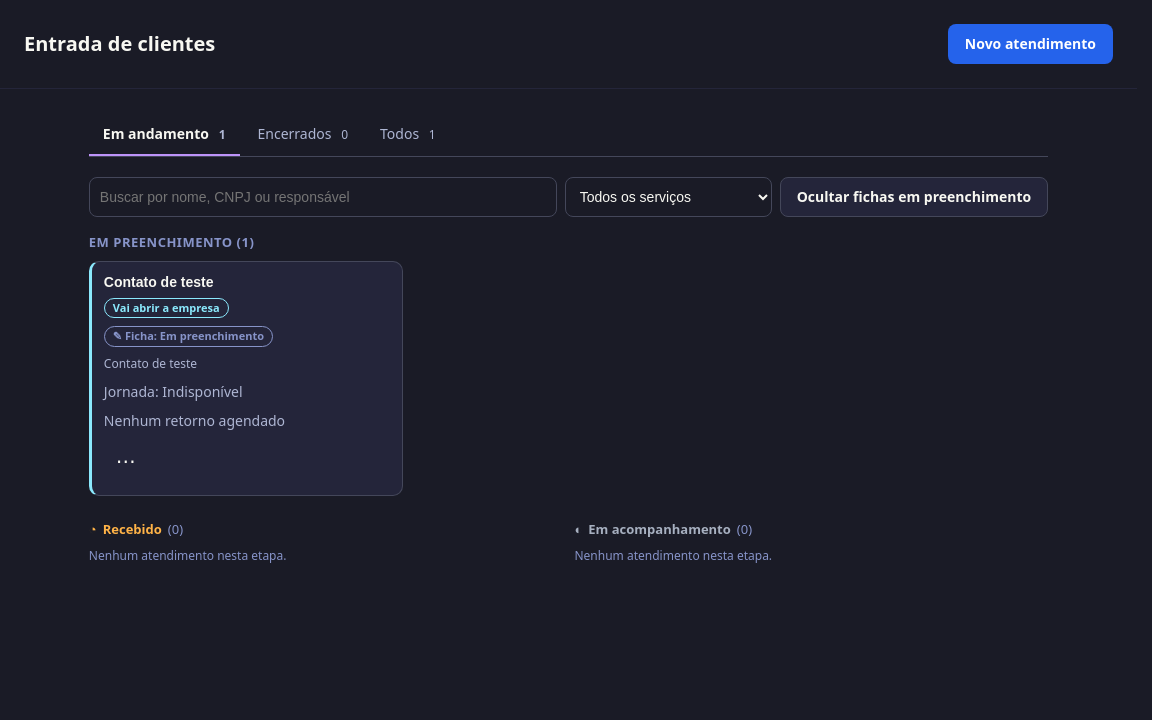
Test: vínculo criado depois da prévia mantém a ficha e erro recuperável
Click the button named "Ações de Contato de teste" at (126, 460), box [104,438,148,482]
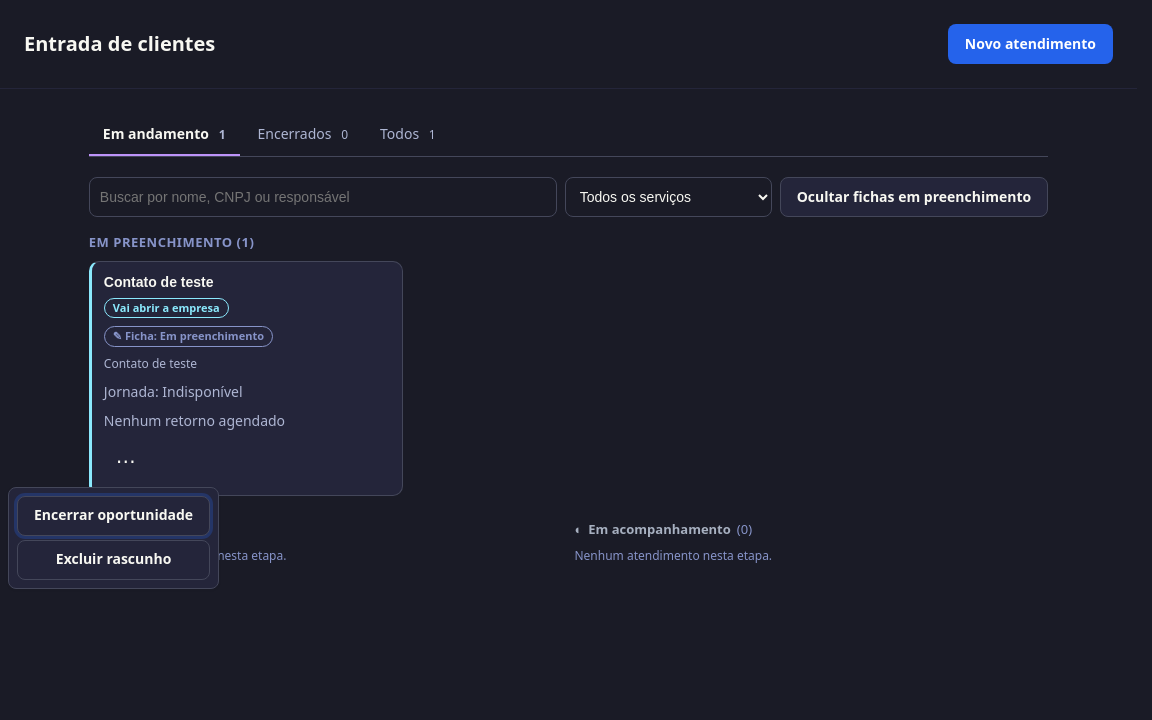
Click the menu item "Excluir rascunho" at (114, 560), box [17,540,210,580]
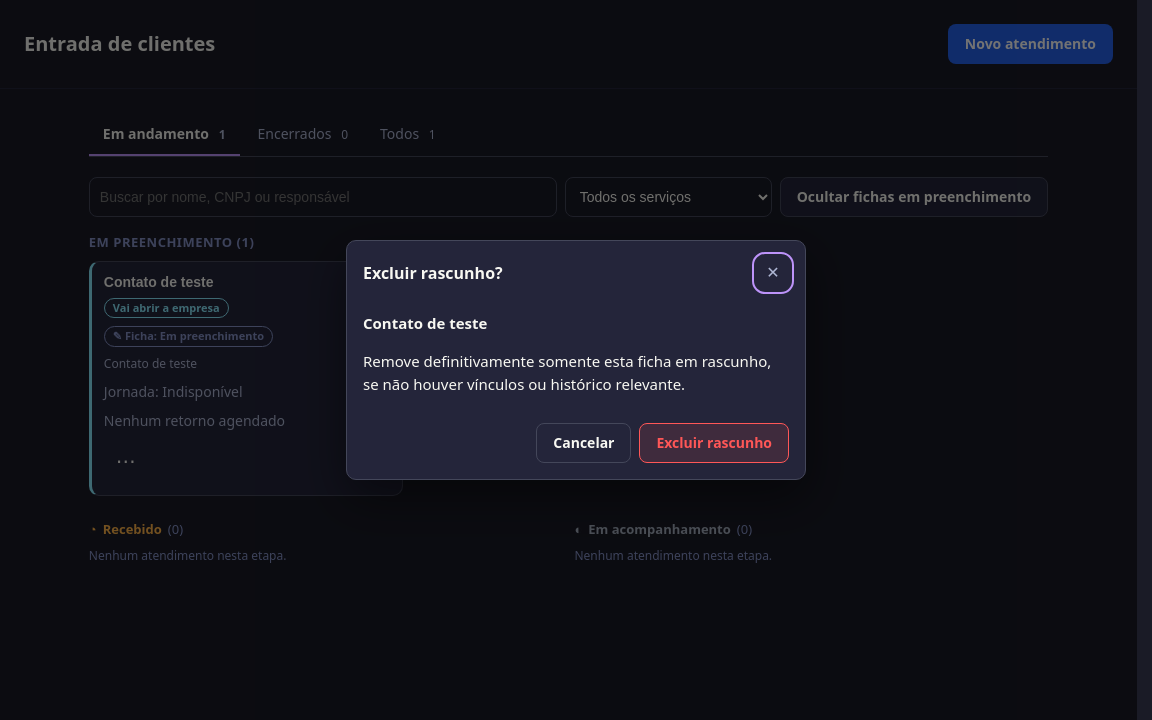
Expected: the button "Excluir rascunho" is enabled
Click the button "Excluir rascunho" at (714, 443), box [640,423,789,463]
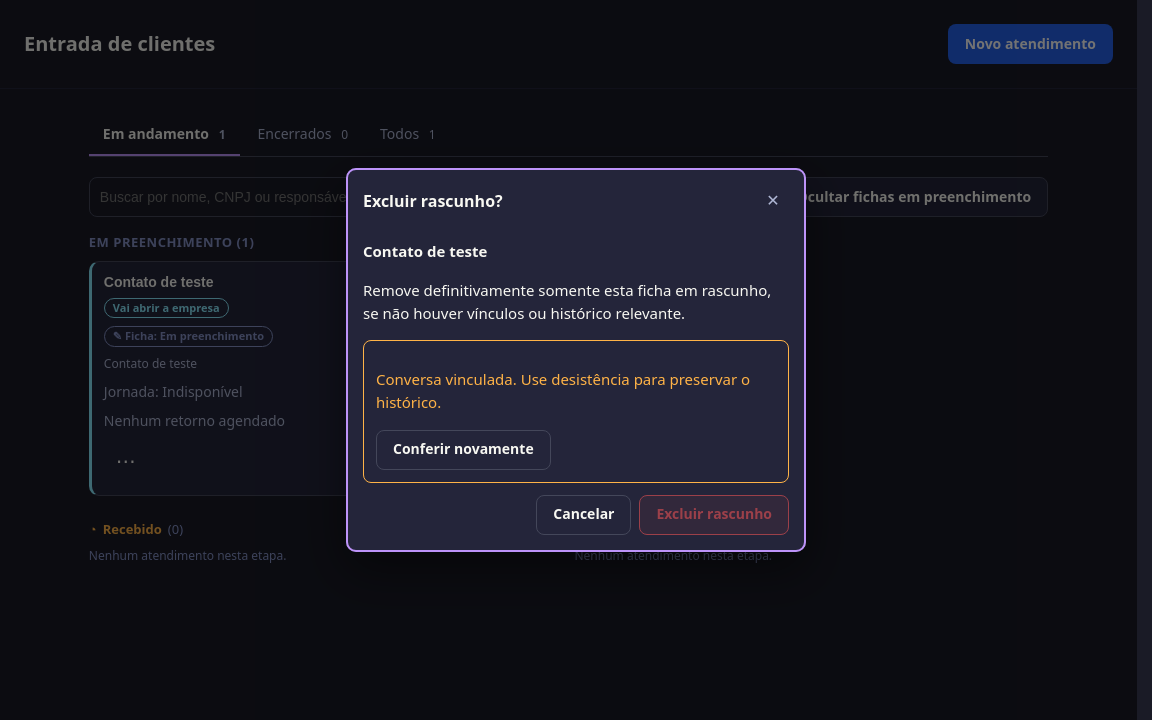
Expected: the button "Contato de teste" is shown, [104,274,390,290]
Expected: the message shows "Conversa vinculada", [376,369,750,412]
Expected: the button "Conferir novamente" is shown, [376,430,551,470]
